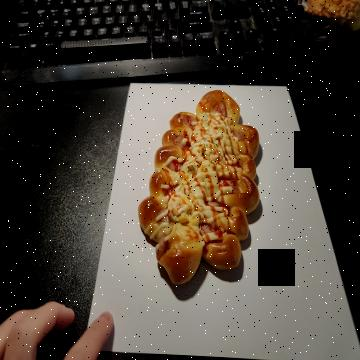pizza_bread: (137, 88, 260, 286)
